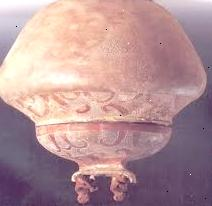manunggul_jar: (0, 0, 209, 206)
